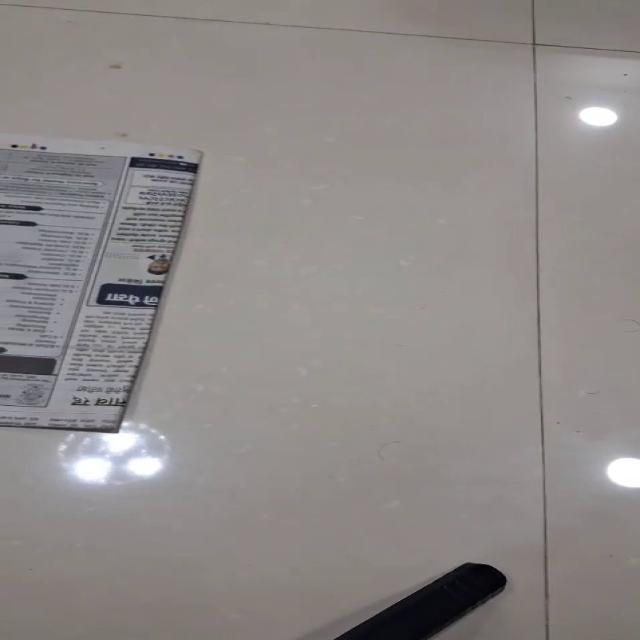paper: (0, 134, 204, 433)
